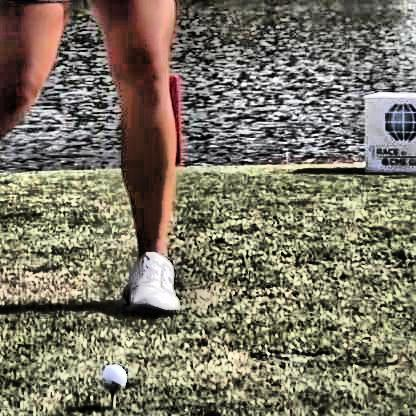golfball: (98, 361, 126, 393)
